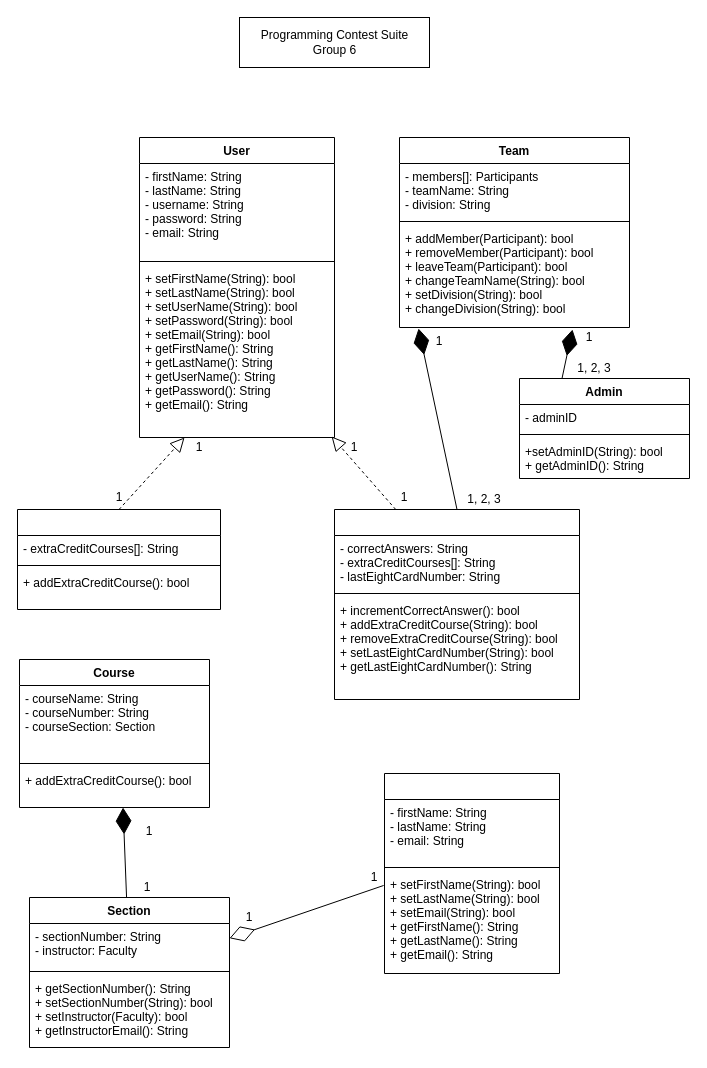
Image size: 707x1068. Some labels were removed from this diagram. Each missing label, with the box of its shape:
Faculty: (384, 772, 560, 974)
Participant: (334, 508, 580, 700)
Volunteer: (16, 508, 220, 610)
